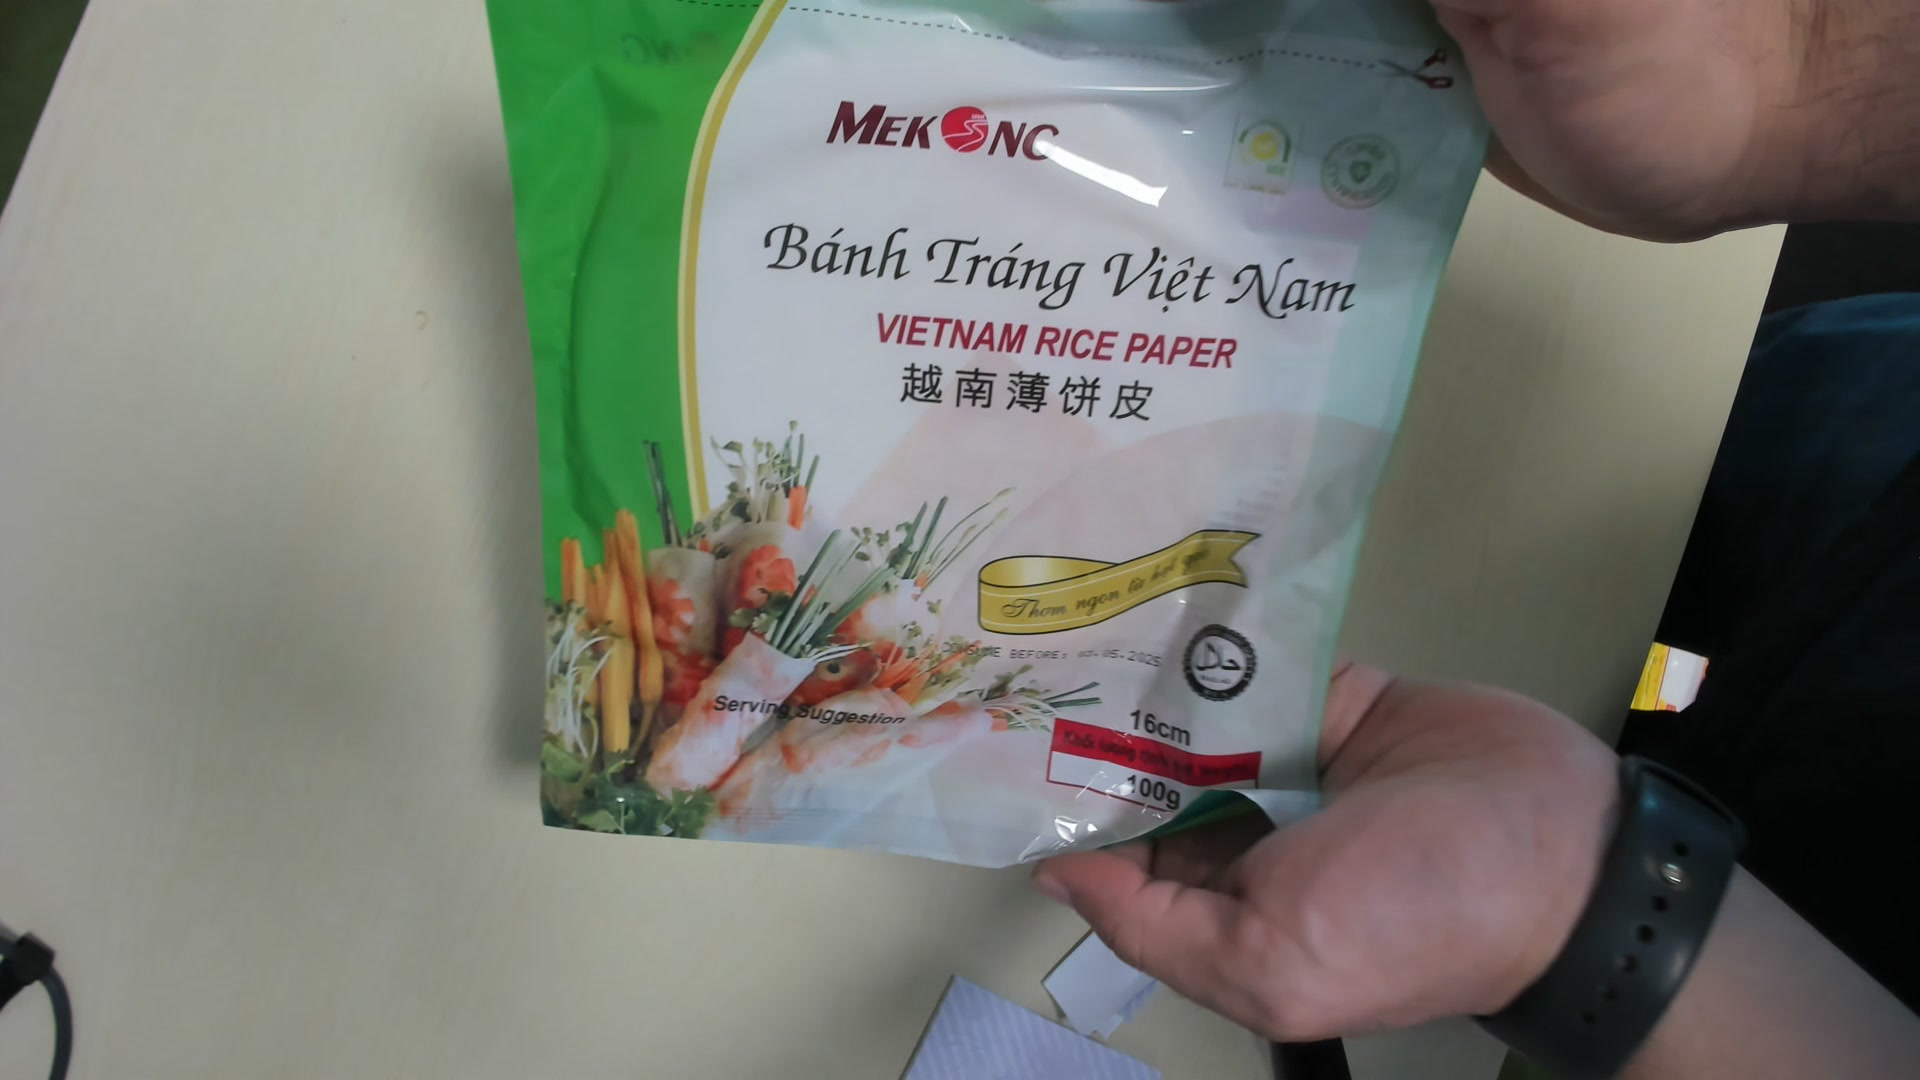InstantMeals_300_399g_NonHalal_NonHealthy: (479, 1, 1505, 884)
